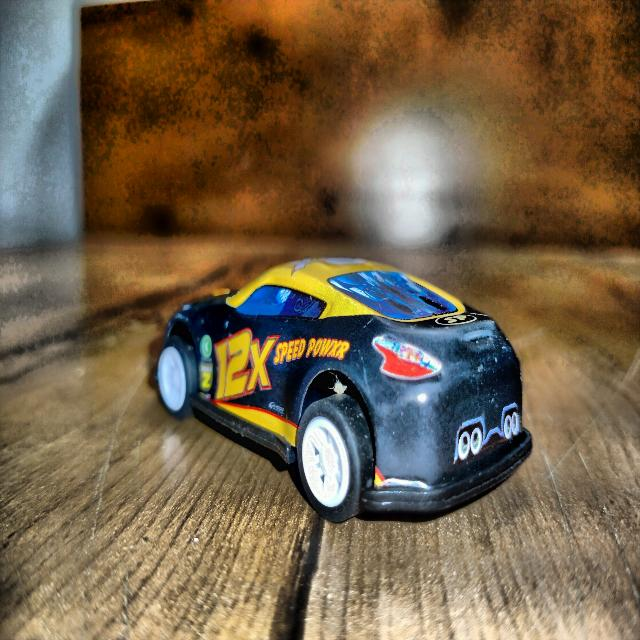Car: (156, 258, 531, 522)
